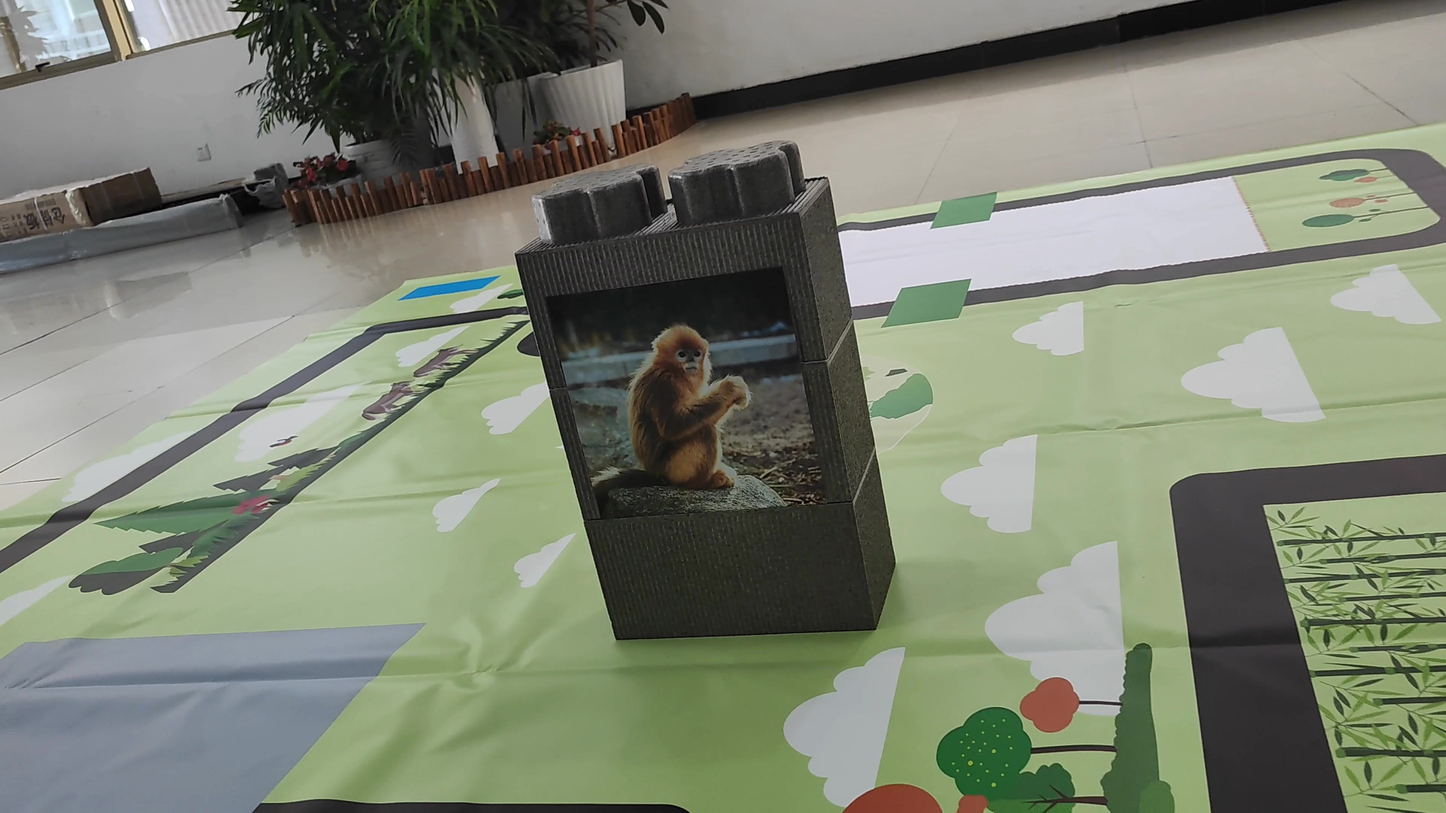monkey: (594, 314, 762, 527)
